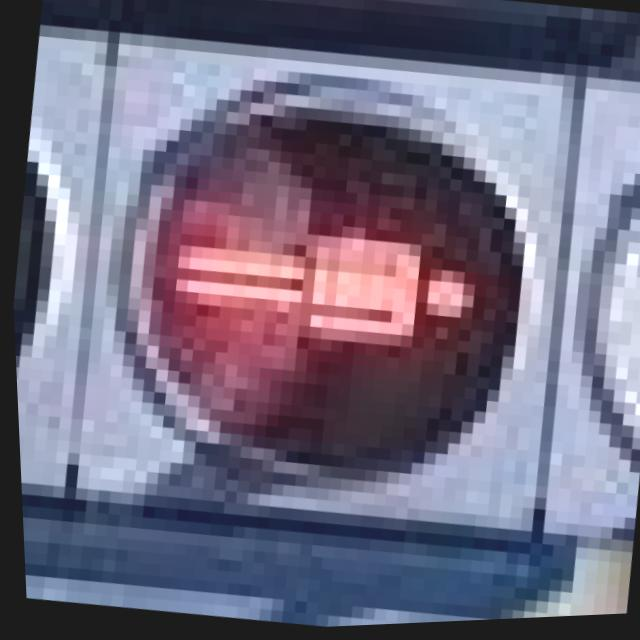red_light: (120, 173, 531, 443)
